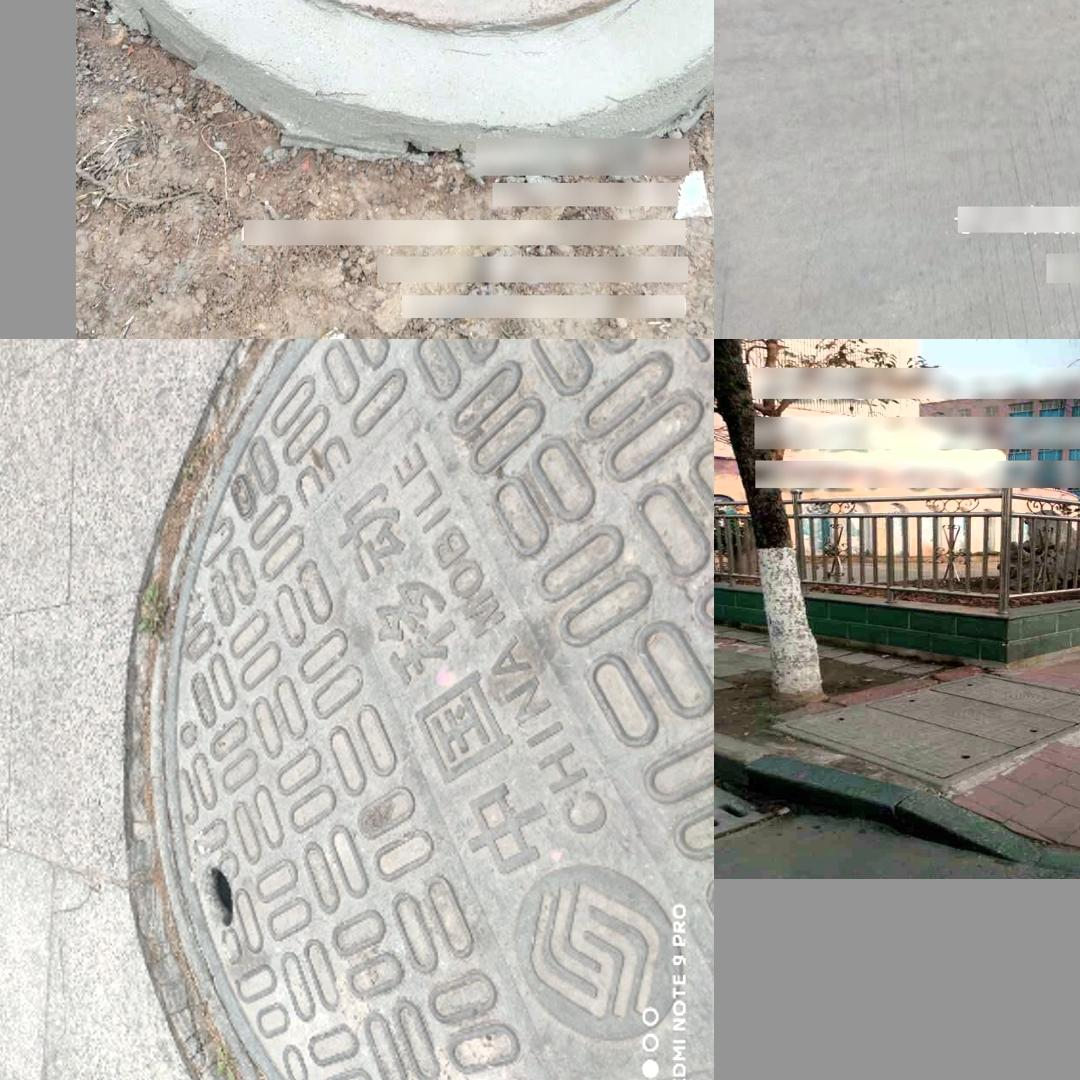good: (127, 341, 714, 1080), (770, 673, 1080, 788), (160, 0, 713, 30)
